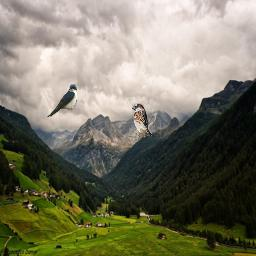Sparrow: (132, 103, 152, 137)
Swallow: (47, 84, 77, 117)
